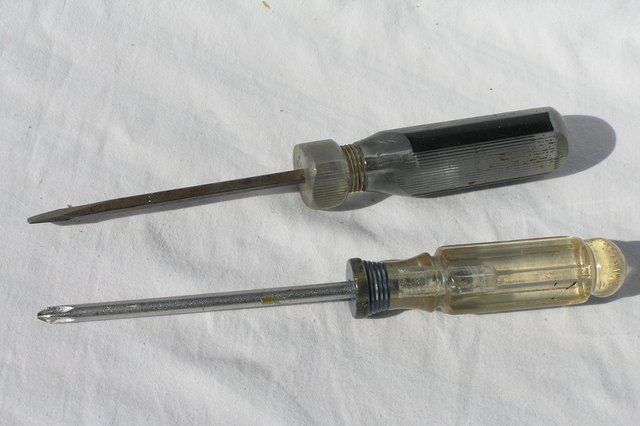screwdriver: (27, 103, 567, 224), (30, 232, 629, 325)
